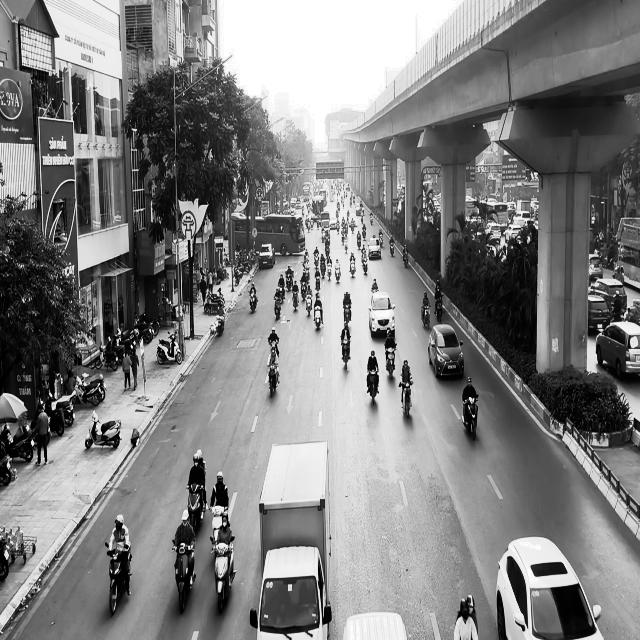bus: (227, 213, 306, 257), (613, 216, 640, 290)
car: (496, 535, 604, 640), (249, 546, 332, 640), (595, 321, 640, 379), (428, 323, 464, 379), (342, 612, 408, 640), (368, 291, 395, 337), (258, 242, 275, 268), (368, 237, 381, 260)
motorbike: (210, 534, 235, 614), (105, 541, 132, 615), (172, 539, 195, 614), (85, 409, 122, 448), (186, 482, 205, 532), (156, 328, 182, 364), (462, 394, 478, 441), (399, 378, 413, 418), (267, 359, 279, 397), (384, 343, 396, 378), (366, 370, 378, 404), (340, 334, 351, 369), (434, 293, 444, 323), (215, 304, 225, 334), (314, 304, 324, 330), (421, 302, 430, 329), (274, 294, 282, 320), (343, 302, 351, 328), (249, 289, 258, 312), (349, 258, 356, 277)
